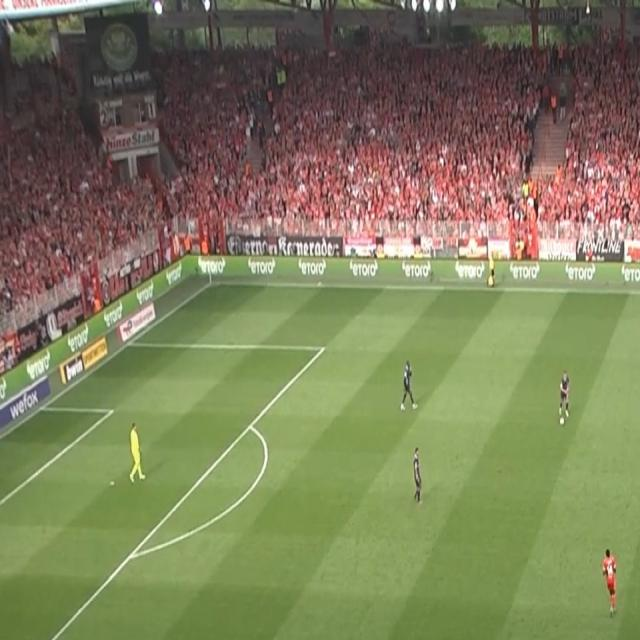ball: (559, 416, 565, 427)
